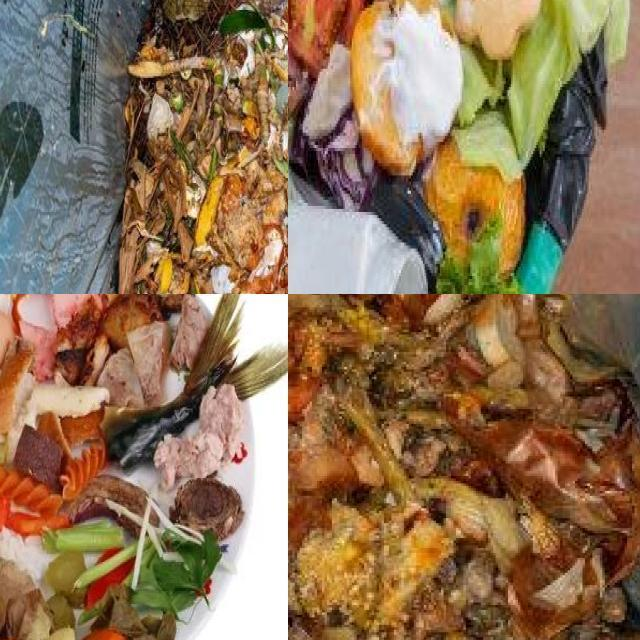Garbage: (288, 294, 640, 640), (288, 0, 601, 294), (0, 294, 254, 640), (117, 0, 288, 294)
Plastic_bottle: (288, 204, 428, 294)
contaminated_waste: (288, 206, 425, 294)
